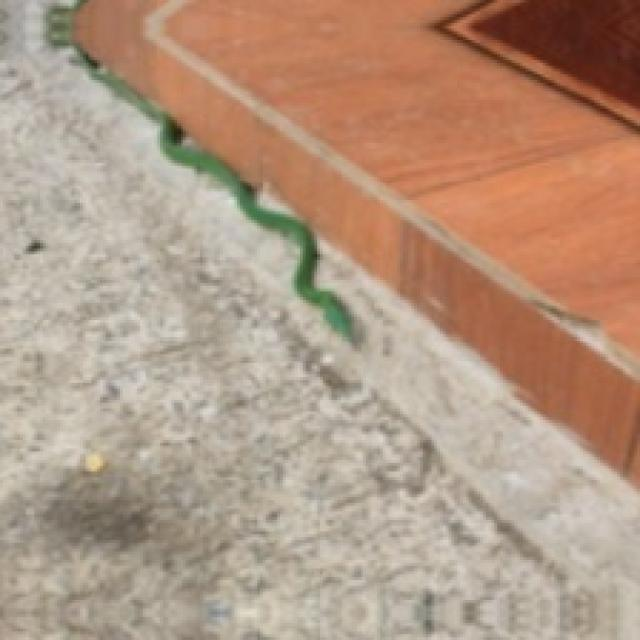red-tailed green ratsnake: (46, 0, 351, 337)
